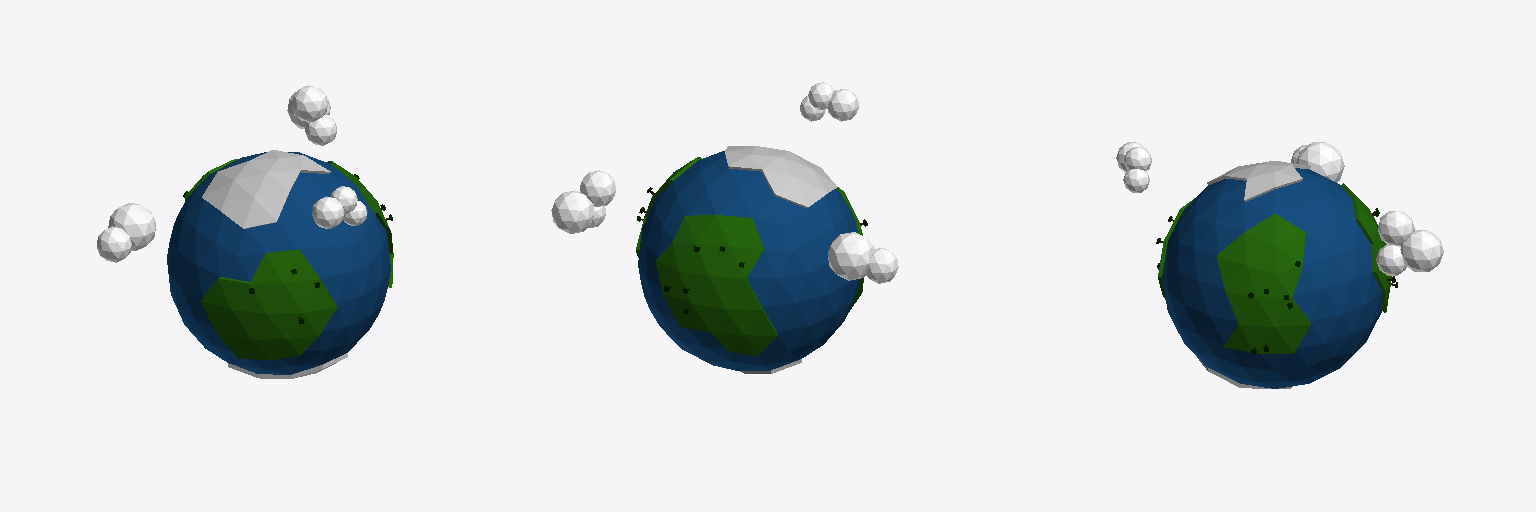
The model's file is earth.obj.
3 renders of one model, left to right at view 1: azimuth 30°, elevation 25°; view 2: azimuth 150°, elevation 25°; view 3: azimuth 270°, elevation 25°, orthographic.
Visible parts, largest first — view 1: 메시; view 2: 메시; view 3: 메시.
Part boxes in pixels (left/top/right/bottom): 메시: left=97, top=85, right=393, bottom=378; 메시: left=551, top=82, right=898, bottom=373; 메시: left=1116, top=142, right=1443, bottom=388.
Bounding box in the file's own units: 10.08 × 7.89 × 10.06.